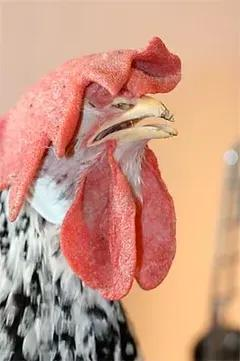AbNormal: (1, 36, 182, 222), (63, 152, 177, 299)
